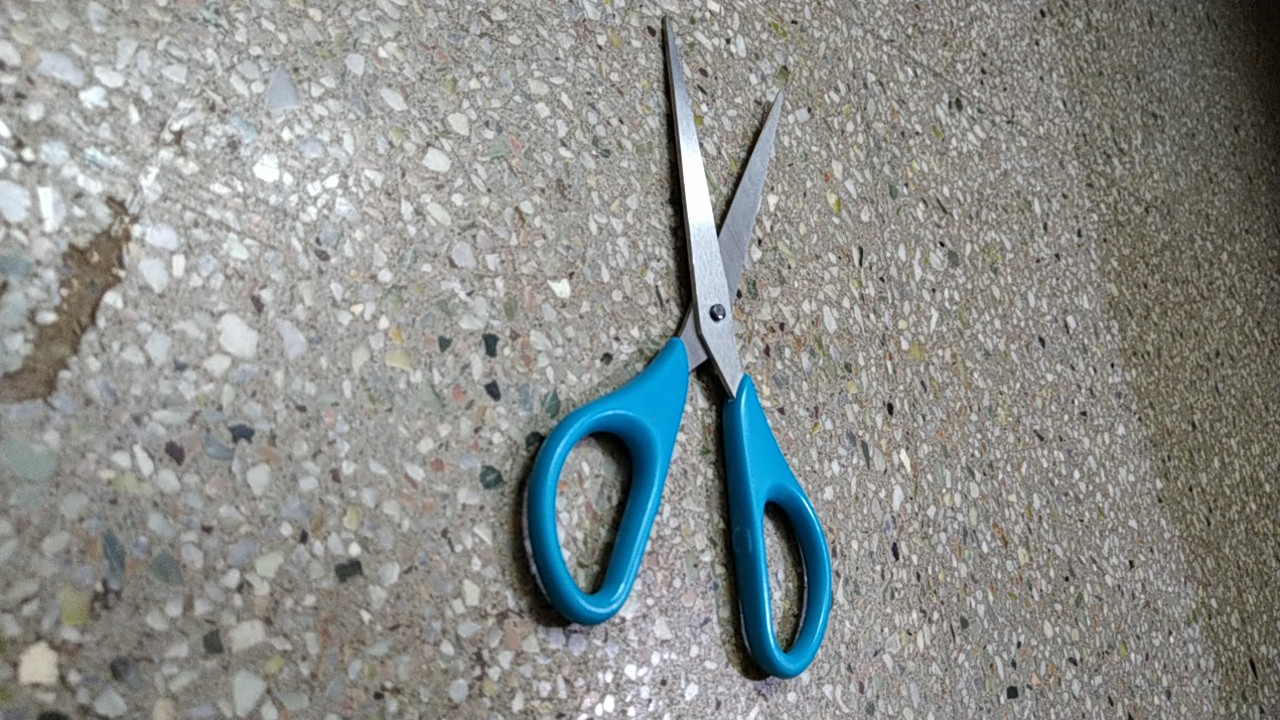scissor: (509, 7, 847, 699)
